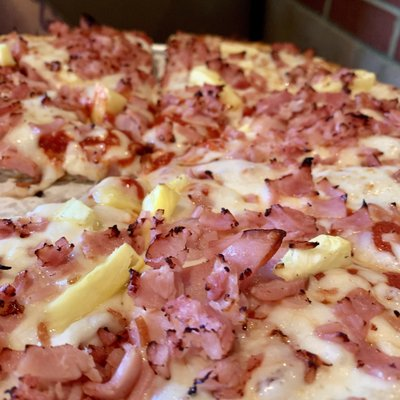sandwich: (1, 23, 400, 400)
